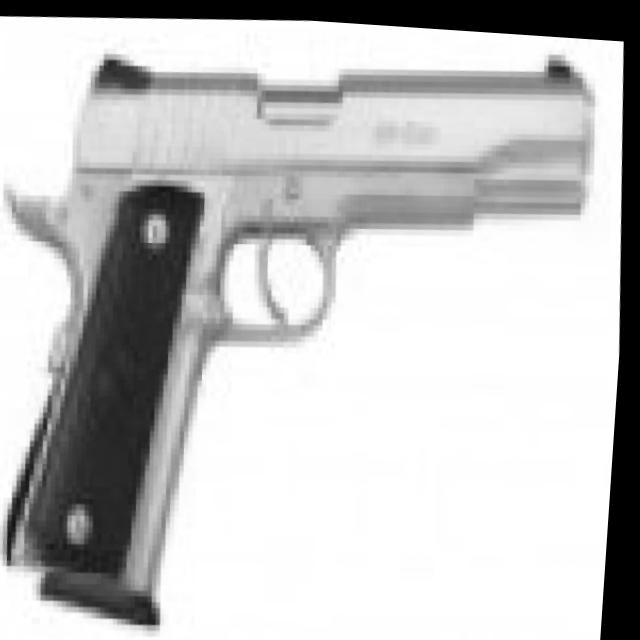weapon: (0, 10, 626, 640)
